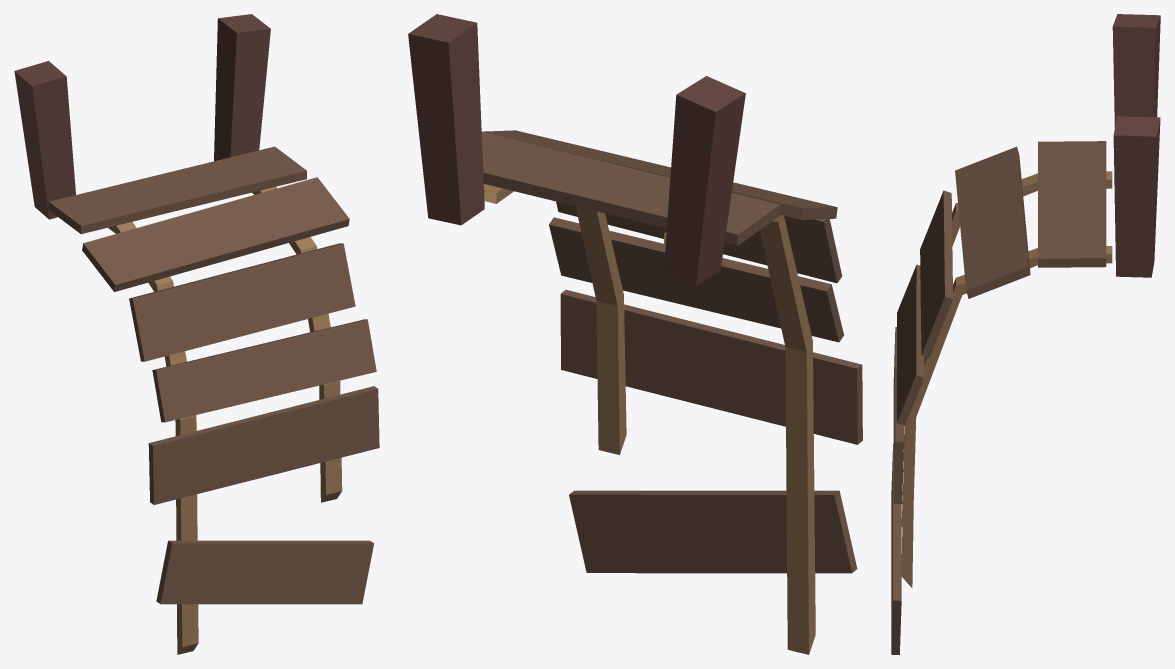
The model's file is Bridge-C03.fbx.
The picture shows the model from 3 angles, left to right: view 1: azimuth 30°, elevation 25°; view 2: azimuth 150°, elevation 25°; view 3: azimuth 270°, elevation 25°; orthographic projection. The views are drawn at different scales.
Visible parts, largest first — view 1: Bridge-C03; view 2: Bridge-C03; view 3: Bridge-C03.
Part boxes in pixels (x1,y1,x2,y2): Bridge-C03: (14, 14, 379, 654); Bridge-C03: (408, 14, 862, 654); Bridge-C03: (891, 14, 1160, 654).
Bounding box in the file's own units: 297 × 592 × 265.
